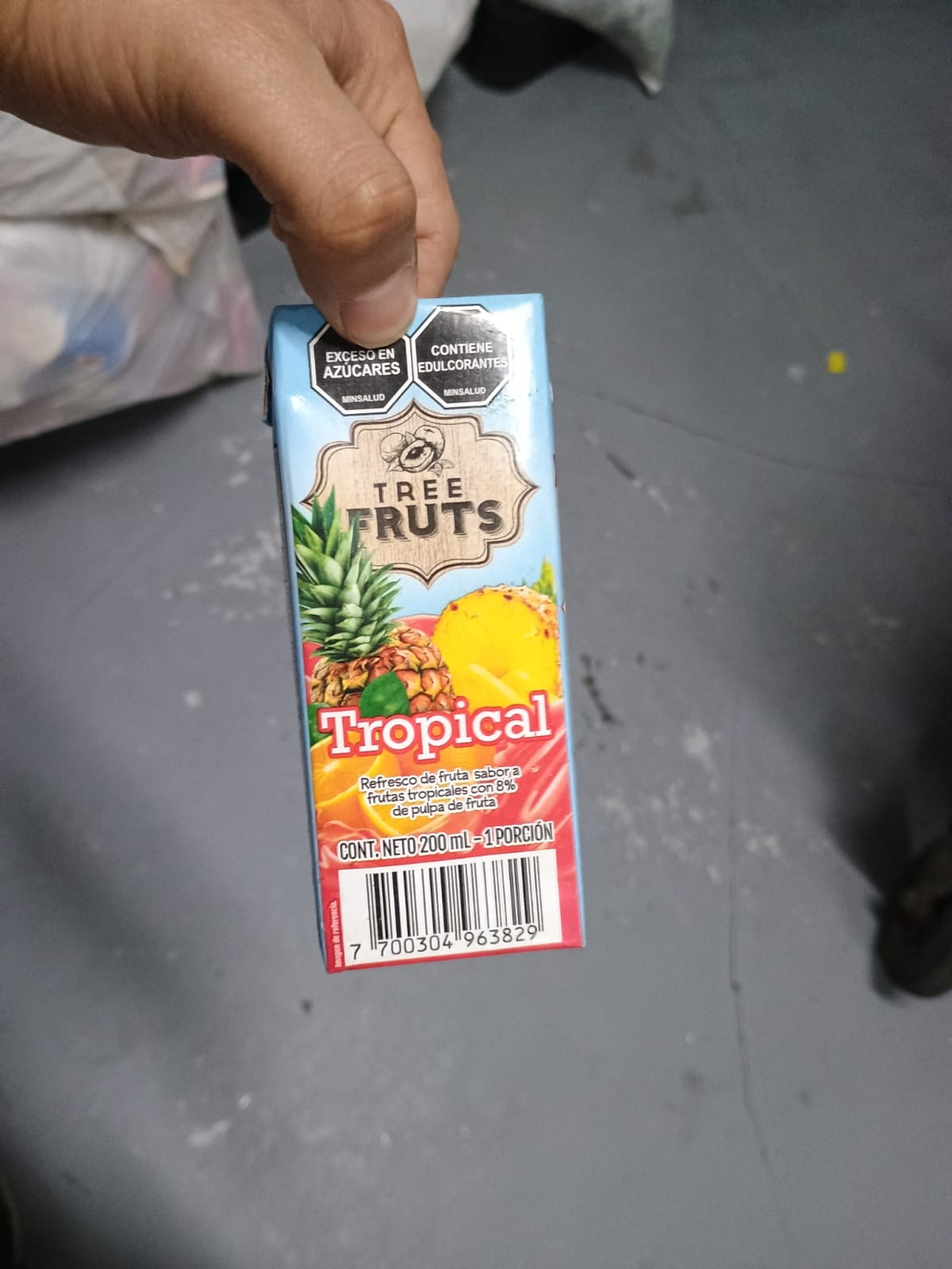Carton: (266, 294, 591, 973)
